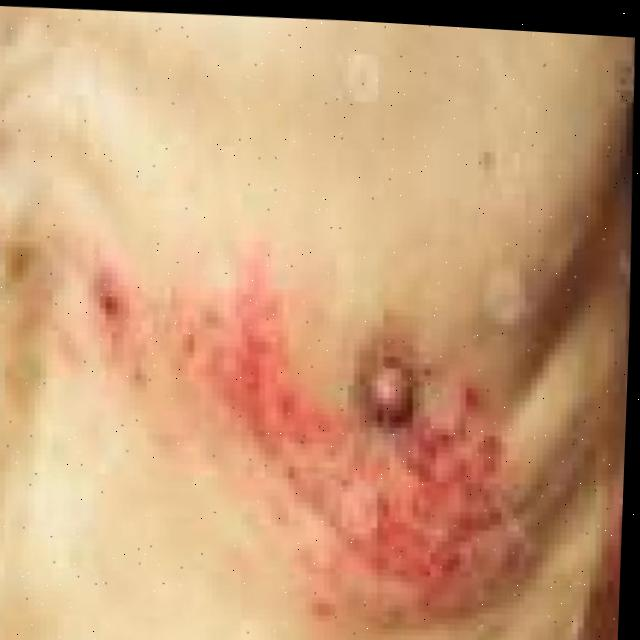Shingles: (81, 239, 530, 625)
